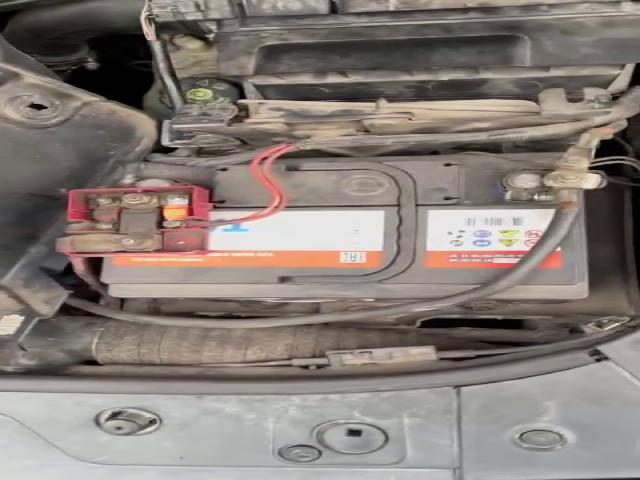accumulator: (62, 150, 592, 299)
